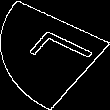L_SE: (15, 28, 95, 82)
